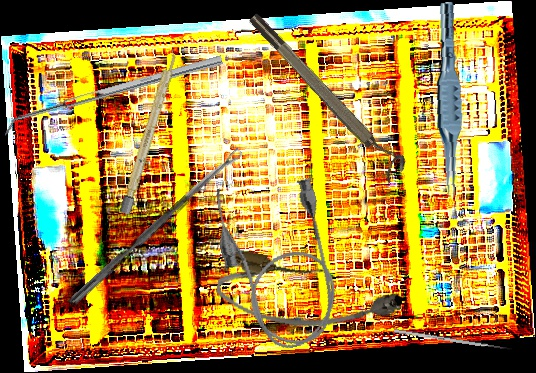Cannula: (206, 166, 350, 359), (212, 246, 406, 348)
Fixation Ring: (245, 4, 411, 183)
Pusher: (393, 328, 513, 352)
Scalpel Handle: (119, 48, 180, 215)
Spatula Surgical: (0, 55, 226, 136)
Surgical Spoon: (67, 147, 244, 309)
Tissue Forceps: (427, 1, 469, 198)
